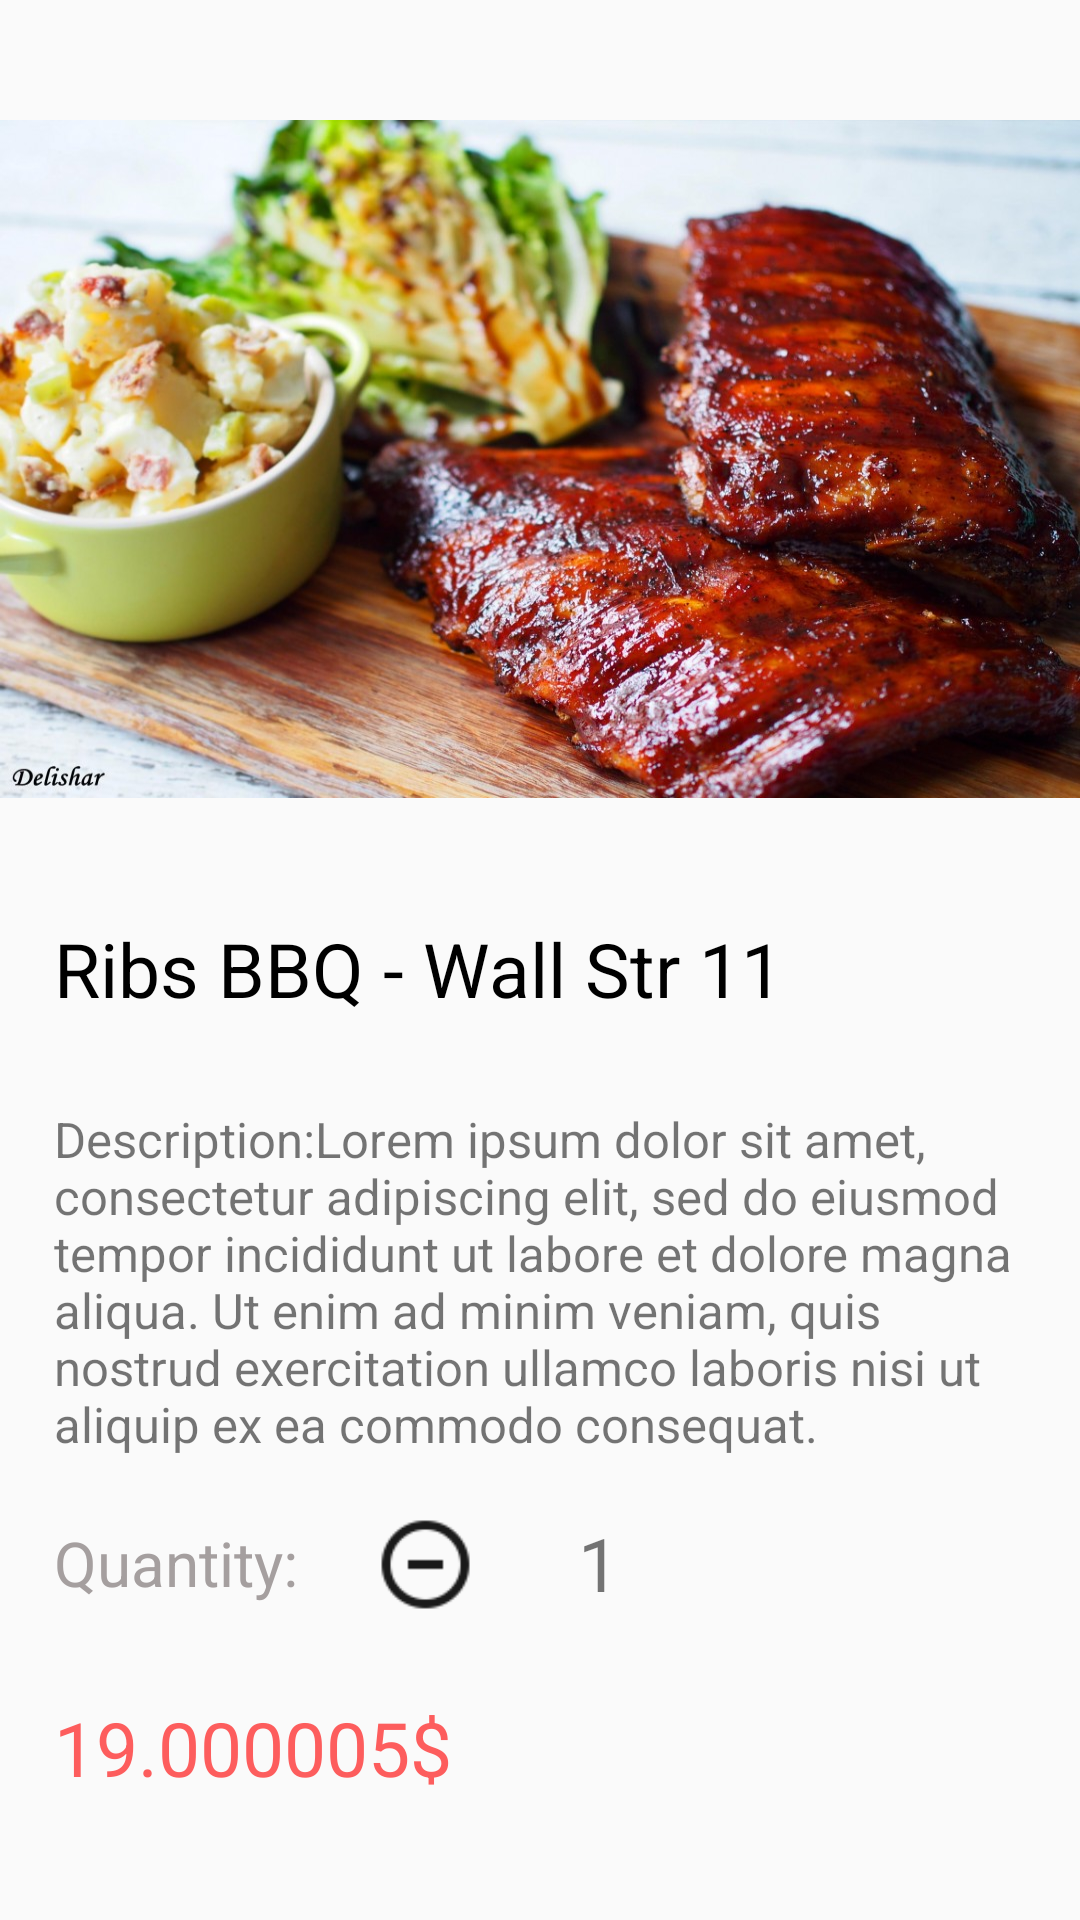

Icon click points for this 1080 × 1920 phone screenshot, format [x,y]:
minussign: [425,1564]
